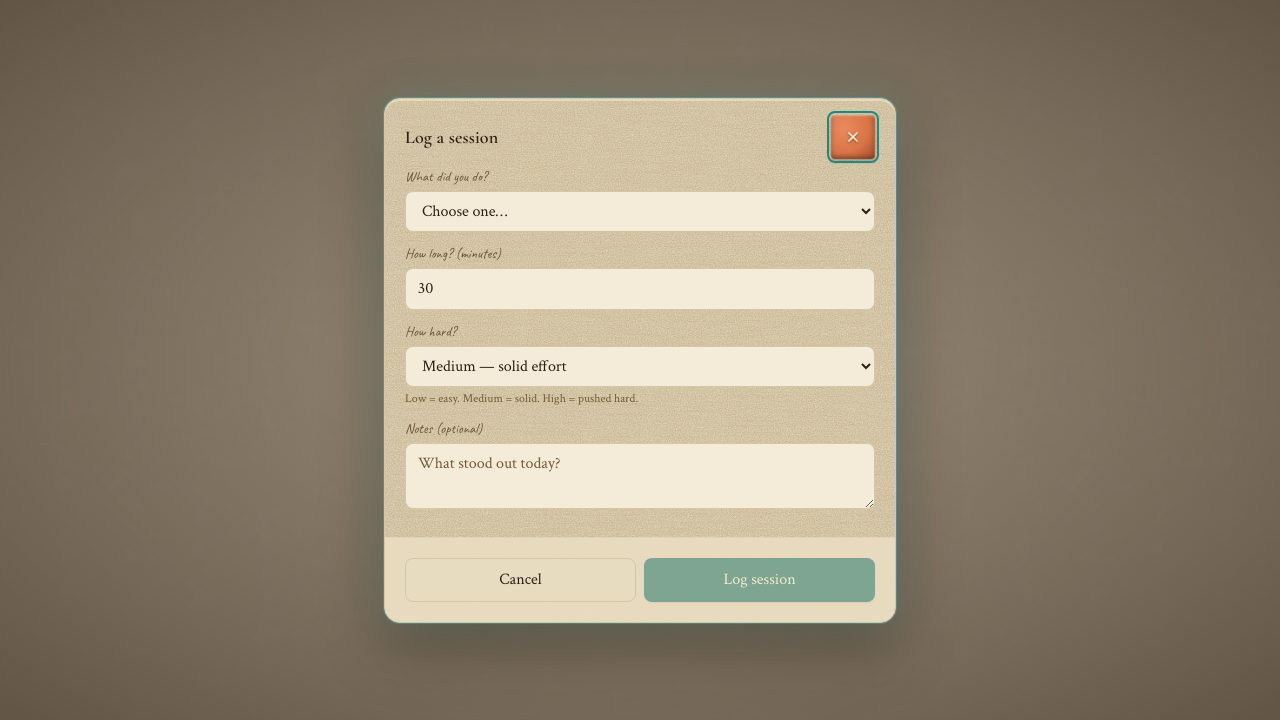
Test: MovementSessionLogModal › surfaces backend error inline when POST returns 400
Select "+ New activity…" in the dropdown labelled "What did you do?": (640, 211) [405,190,875,232]
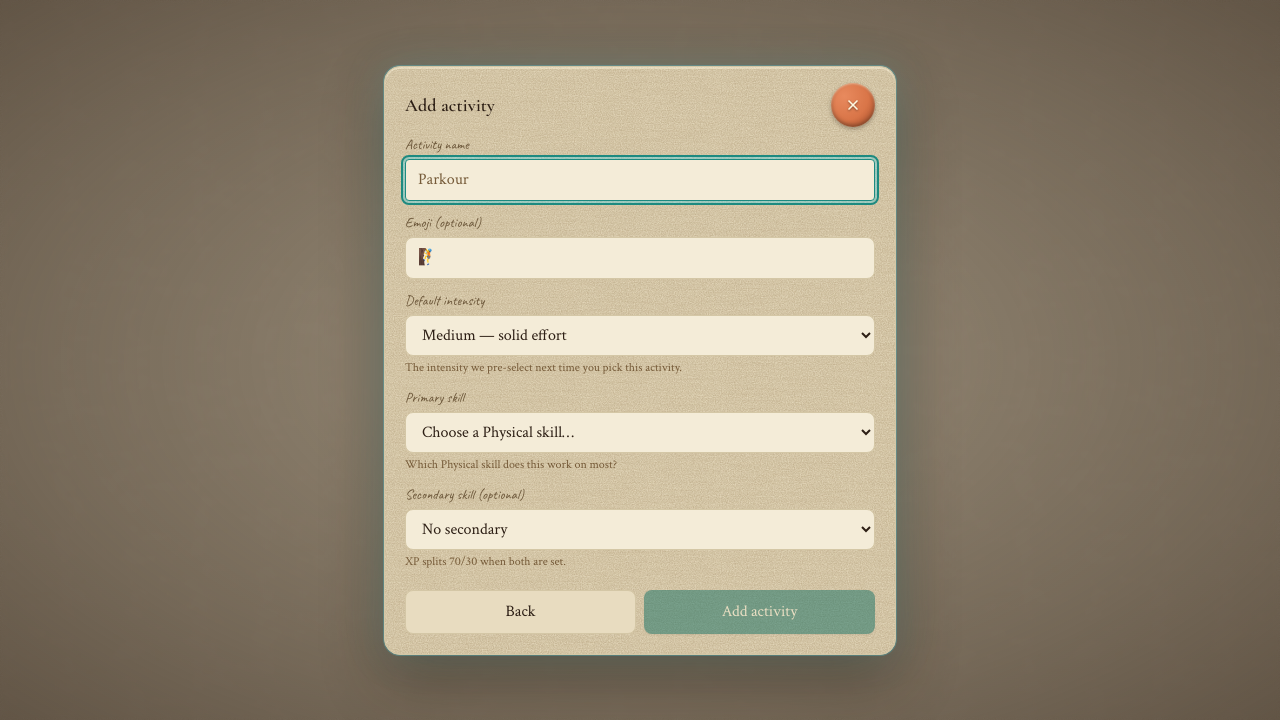
Expected: the dropdown labelled "Primary skill" is enabled, [405,412,875,452]
In the field labelled "Activity name": (640, 180) [405,158,875,200], type "Run"
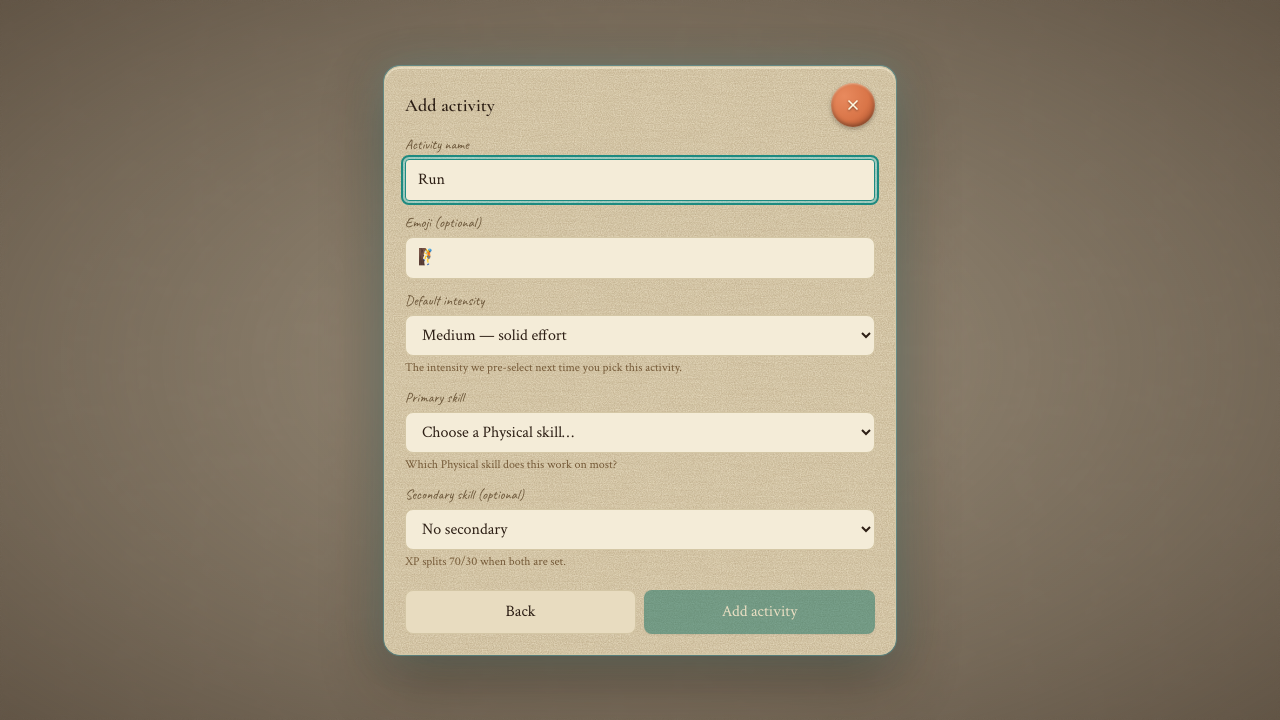
Select "🏃 Endurance" in the dropdown labelled "Primary skill": (640, 432) [405,412,875,452]
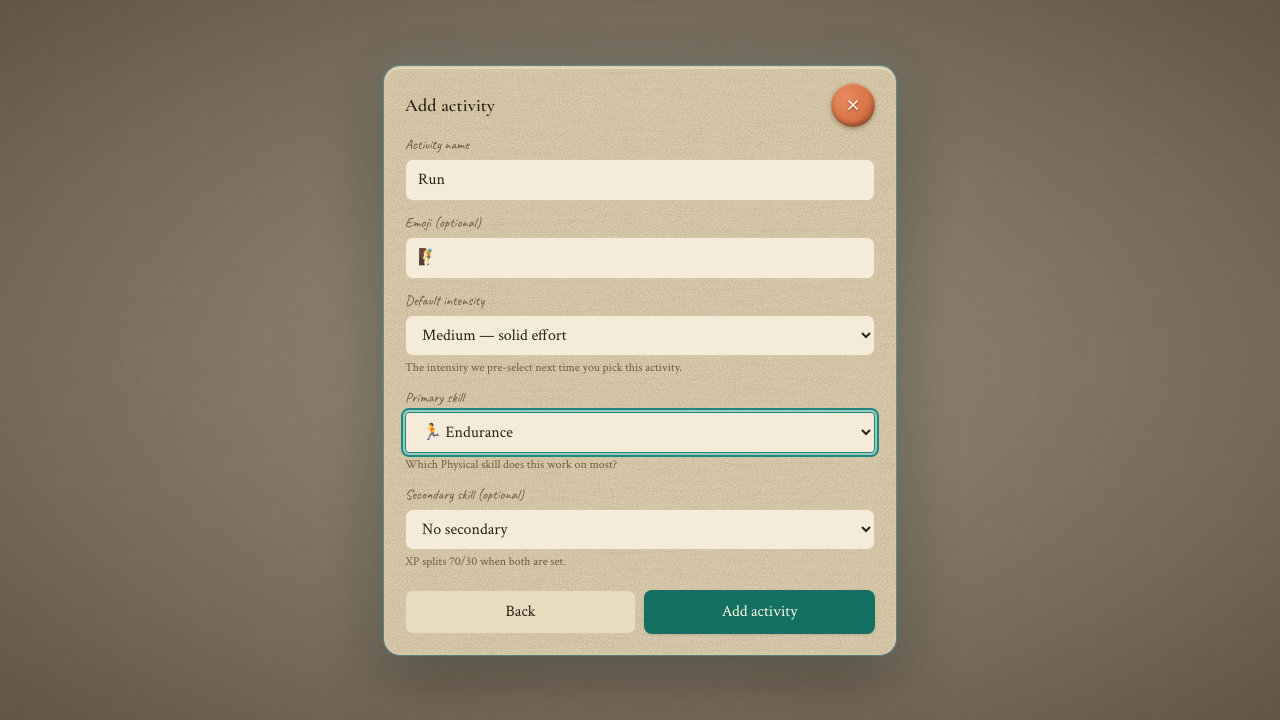
Click the button "Add activity": click(760, 612) [644,590,875,634]
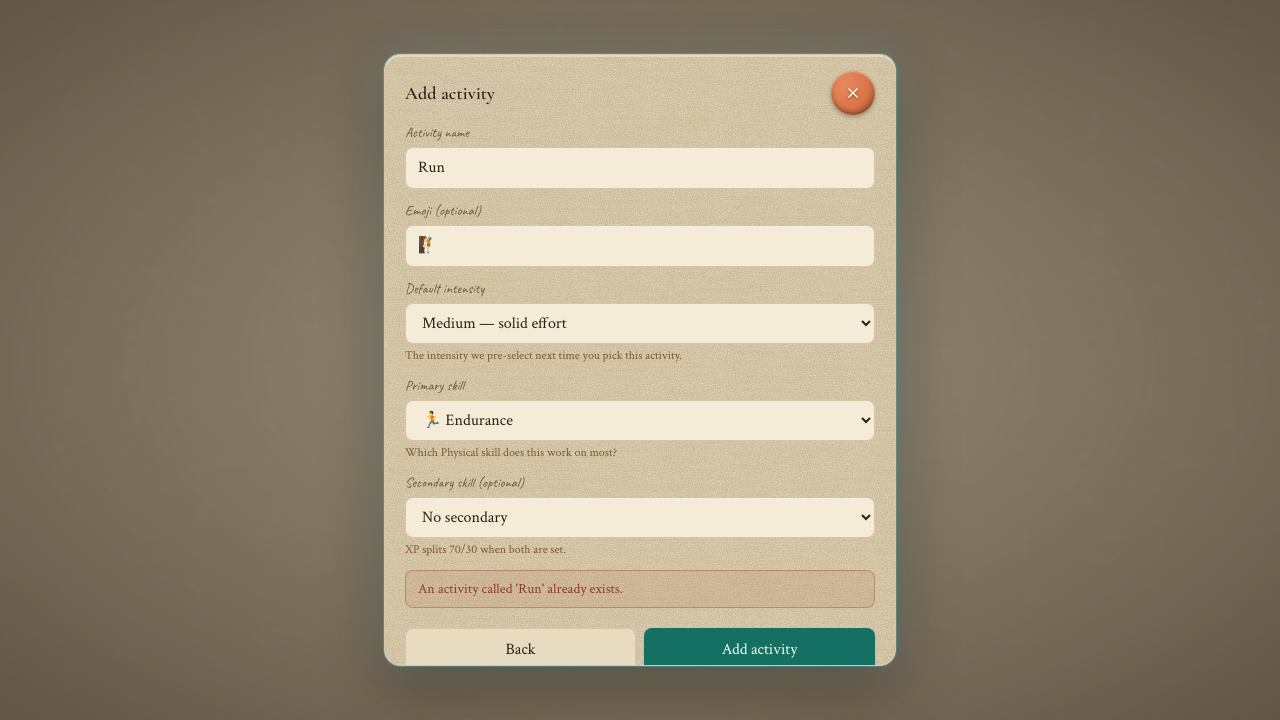
Expected: the message shows "already exists", [418,580,623,598]
